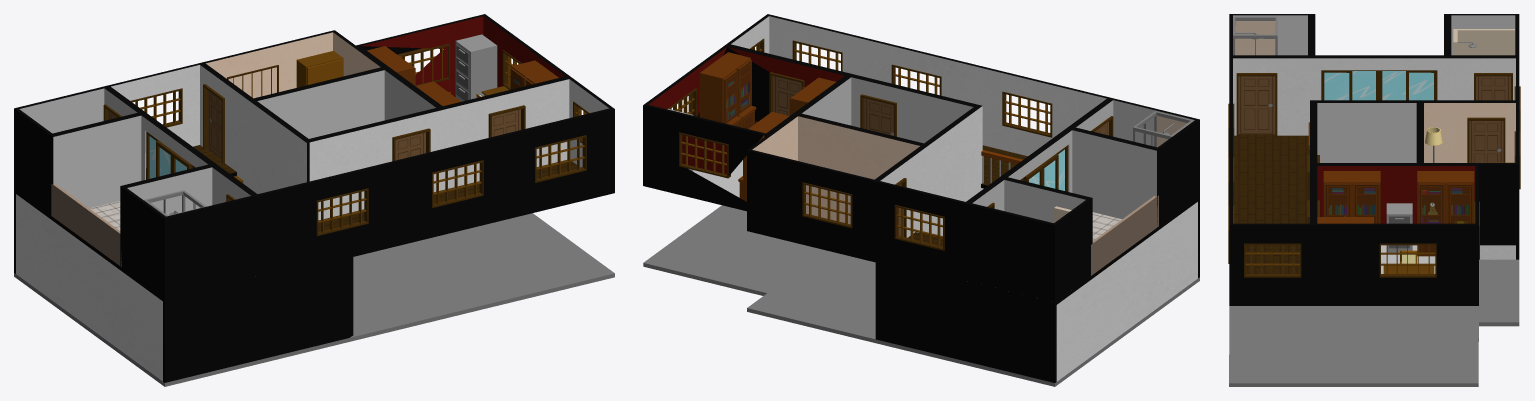
Rendered from SecondeFloorMap.obj.
The picture shows the model from 3 angles, left to right: view 1: azimuth 30°, elevation 25°; view 2: azimuth 150°, elevation 25°; view 3: azimuth 270°, elevation 25°; orthographic projection. The views are drawn at different scales.
Parts seen in each view (by area): view 1: CorridorWalls, FirstFloor pCube46, Bathroom2Walls, FirstFloor pCube35, TerraceWalls, pCube33 FirstFloor, Bedroom2Walls, Bathroom1Wall, OfficeWalls, Bedroom1Walls, TerraceFloor, CorridorFloor (+17 smaller); view 2: CorridorWalls, FirstFloor pCube46, Bedroom1Walls, Bathroom1Wall, OfficeWalls, FirstFloor pCube35, TerraceWalls, FirstFloor pCube34, Bedroom2Walls, Bathroom2Walls, Bookcase, TerraceFloor (+16 smaller); view 3: FirstFloor pCube35, OfficeWalls, CorridorWalls, CorridorFloor, Bedroom1Walls, Bedroom2Walls, FirstFloor pCube34, Bookcase2, Bookcase1, pCube33 FirstFloor, Door Bathroom2Door, Bathroom2Walls (+20 smaller).
Part boxes in pixels (left/top/right/bottom): CorridorWalls: left=106, top=63, right=614, bottom=276; FirstFloor pCube46: left=14, top=192, right=353, bottom=382; Bathroom2Walls: left=122, top=165, right=256, bottom=298; FirstFloor pCube35: left=404, top=213, right=614, bottom=308; TerraceWalls: left=51, top=113, right=213, bottom=266; pCube33 FirstFloor: left=349, top=248, right=485, bottom=341; Bedroom2Walls: left=252, top=68, right=441, bottom=140; Bathroom1Wall: left=14, top=86, right=142, bottom=215; OfficeWalls: left=356, top=14, right=570, bottom=108; Bedroom1Walls: left=201, top=30, right=385, bottom=100; TerraceFloor: left=51, top=183, right=121, bottom=270; CorridorFloor: left=193, top=145, right=614, bottom=280; CorridorWalls: left=725, top=14, right=1111, bottom=280; FirstFloor pCube46: left=875, top=188, right=1199, bottom=382; Bedroom1Walls: left=747, top=114, right=924, bottom=258; Bathroom1Wall: left=967, top=178, right=1090, bottom=302; OfficeWalls: left=643, top=45, right=849, bottom=207; FirstFloor pCube35: left=643, top=205, right=825, bottom=295; TerraceWalls: left=1003, top=128, right=1158, bottom=244; FirstFloor pCube34: left=747, top=256, right=877, bottom=343; Bedroom2Walls: left=797, top=75, right=977, bottom=145; Bathroom2Walls: left=1071, top=98, right=1199, bottom=225; Bookcase: left=699, top=52, right=756, bottom=128; TerraceFloor: left=1091, top=195, right=1158, bottom=279; FirstFloor pCube35: left=1229, top=322, right=1478, bottom=386; OfficeWalls: left=1313, top=164, right=1478, bottom=302; CorridorWalls: left=1229, top=57, right=1519, bottom=302; CorridorFloor: left=1229, top=134, right=1313, bottom=305; Bedroom1Walls: left=1420, top=101, right=1519, bottom=241; Bedroom2Walls: left=1313, top=101, right=1420, bottom=164; FirstFloor pCube34: left=1377, top=259, right=1519, bottom=326; Bookcase2: left=1417, top=171, right=1474, bottom=256; Bookcase1: left=1323, top=171, right=1380, bottom=223; pCube33 FirstFloor: left=1229, top=306, right=1377, bottom=322; Door Bathroom2Door: left=1238, top=76, right=1275, bottom=134; Bathroom2Walls: left=1229, top=14, right=1311, bottom=56.
Size of the model in its own units: 2061 by 735 by 1203.
